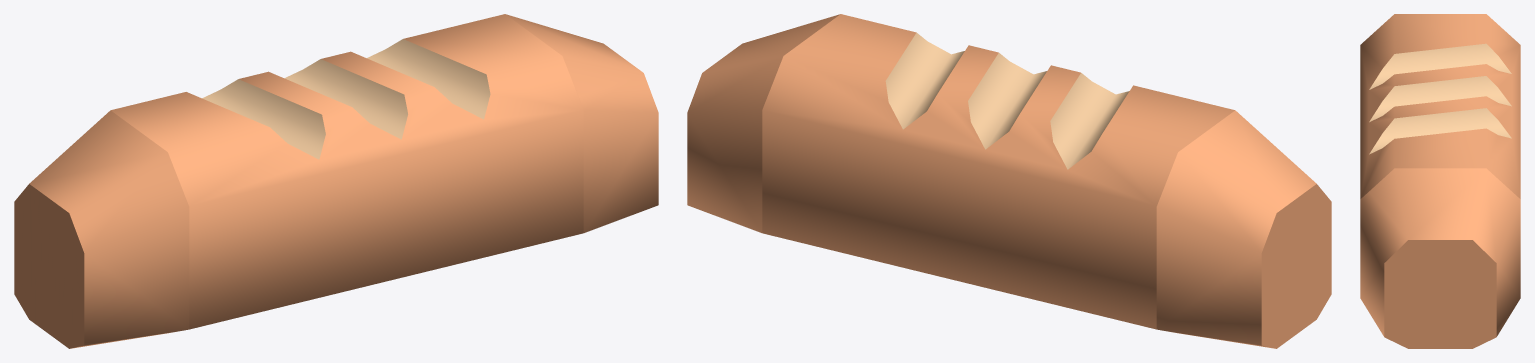
File: Loaf_Baguette.glb
3 renders of one model, left to right at view 1: azimuth 30°, elevation 25°; view 2: azimuth 150°, elevation 25°; view 3: azimuth 270°, elevation 25°, orthographic. The views are drawn at different scales.
Visible parts, largest first — view 1: loafBaguette; view 2: loafBaguette; view 3: loafBaguette.
Part boxes in pixels (x1,y1,x2,y2): loafBaguette: (14,14,658,348); loafBaguette: (687,14,1331,348); loafBaguette: (1360,14,1520,348).
Size of the model in its own units: 0.83 by 0.25 by 0.25.
